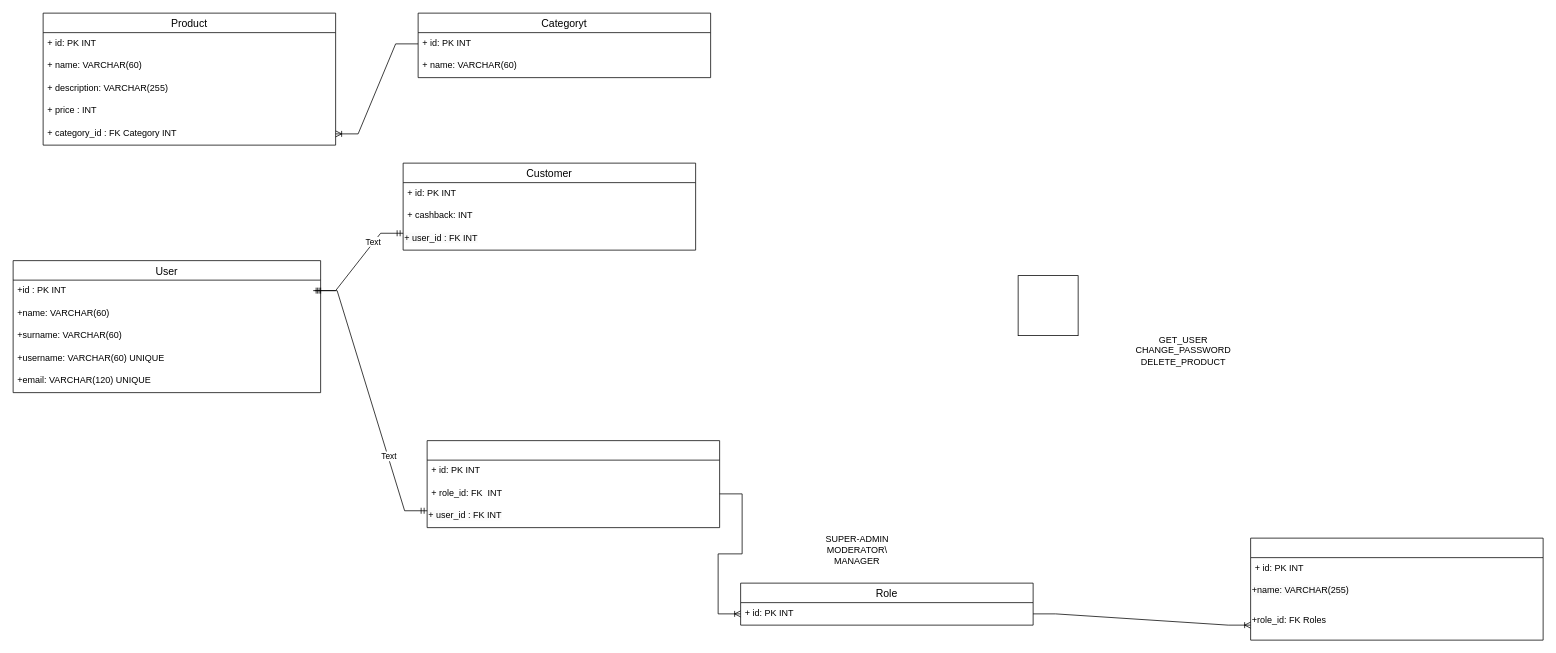
Image size: 1556x653. Some labels were removed from this diagram. The box of each missing label's shape, as (x1, y1, x2, y2) in pixels:
Admin: (426, 440, 720, 528)
PERMISSIONS: (1250, 537, 1543, 640)
